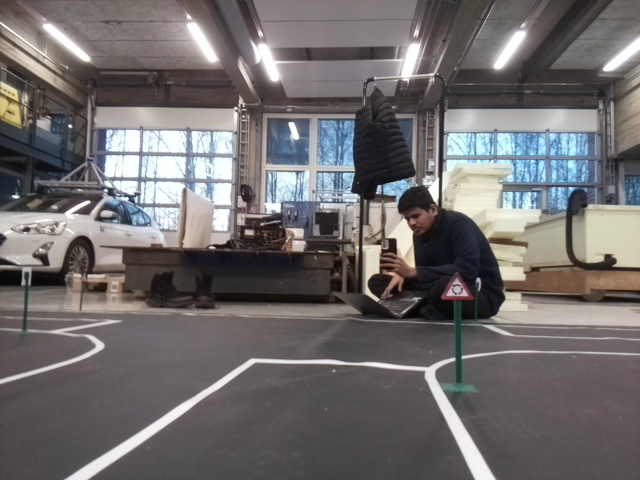Roundabout: (439, 272, 477, 300)
